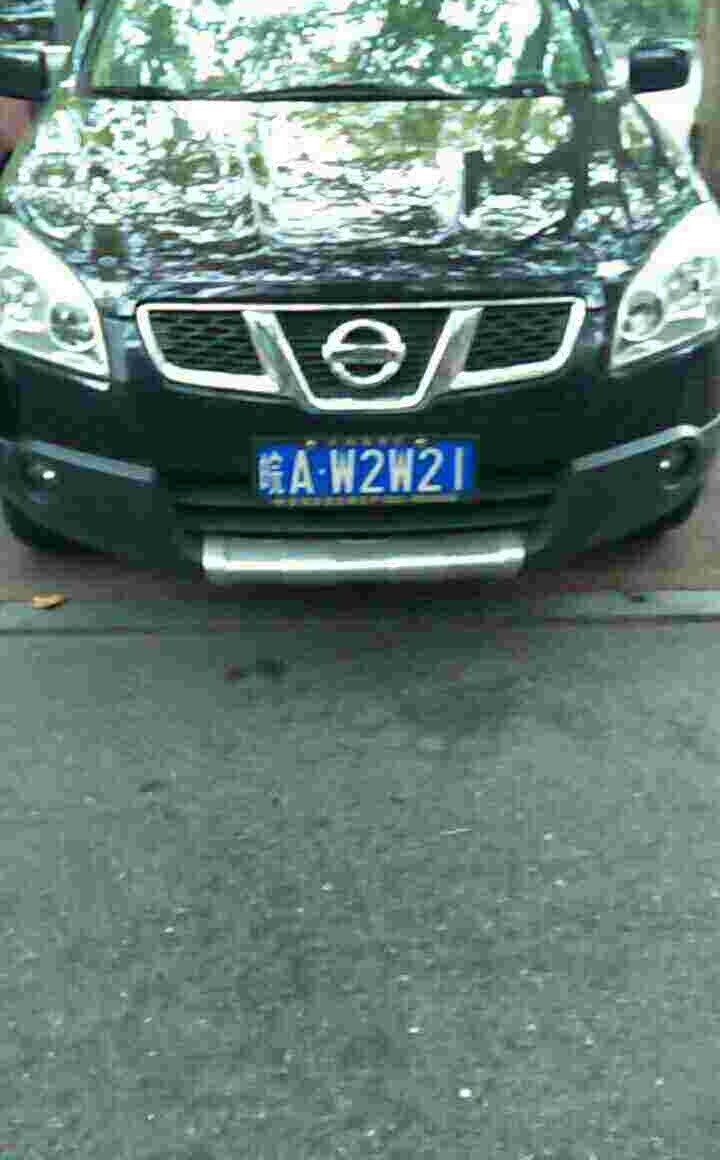car: (248, 440, 481, 502)
